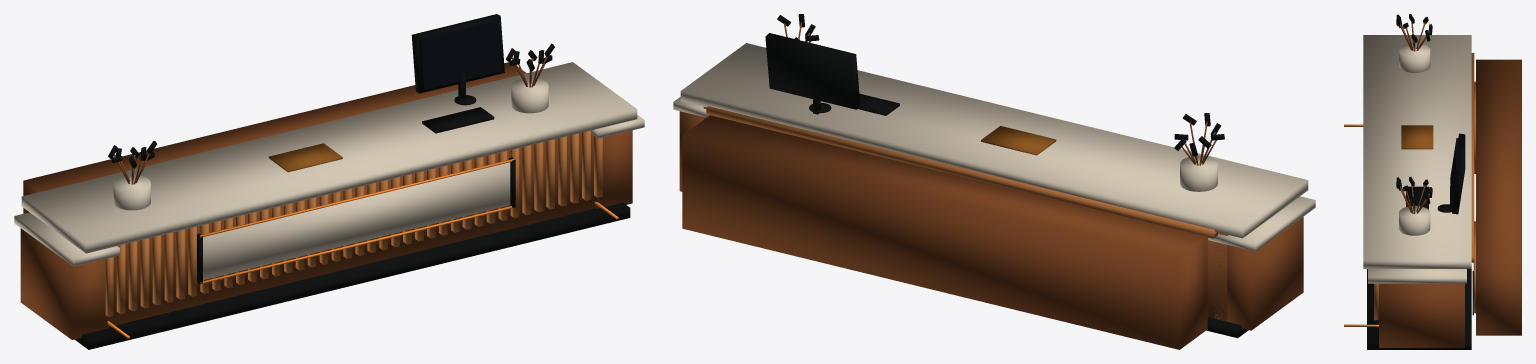
File: reception-desk-v1.obj
3 views of the same model, side by side, from view 1: azimuth 30°, elevation 25°; view 2: azimuth 150°, elevation 25°; view 3: azimuth 270°, elevation 25° (orthographic). The views are drawn at different scales.
Visible parts, largest first — view 1: Reception_stone, Reception_wood, Reception_woodlight, Reception_metal, Reception_screen, Reception_led, Reception_brass; view 2: Reception_wood, Reception_stone, Reception_metal, Reception_woodlight, Reception_brass; view 3: Reception_stone, Reception_wood, Reception_metal, Reception_woodlight, Reception_brass, Reception_screen, Reception_led.
Part boxes in pixels (box(x1,y1,x2,y2)): Reception_stone: box(14, 62, 644, 279); Reception_wood: box(20, 56, 632, 339); Reception_woodlight: box(105, 130, 602, 317); Reception_metal: box(75, 14, 630, 349); Reception_screen: box(419, 21, 501, 89); Reception_led: box(107, 158, 618, 338); Reception_brass: box(268, 143, 342, 172); Reception_wood: box(679, 22, 1303, 349); Reception_stone: box(673, 43, 1315, 251); Reception_metal: box(765, 14, 1248, 338); Reception_woodlight: box(706, 106, 1217, 238); Reception_brass: box(981, 126, 1056, 155); Reception_stone: box(1363, 35, 1471, 283); Reception_wood: box(1379, 21, 1521, 347); Reception_metal: box(1367, 14, 1473, 349); Reception_woodlight: box(1374, 53, 1475, 320); Reception_brass: box(1401, 125, 1433, 149); Reception_screen: box(1450, 138, 1458, 209); Reception_led: box(1344, 124, 1378, 326).
Size of the model in its own units: 6.03 by 1.82 by 1.94.
